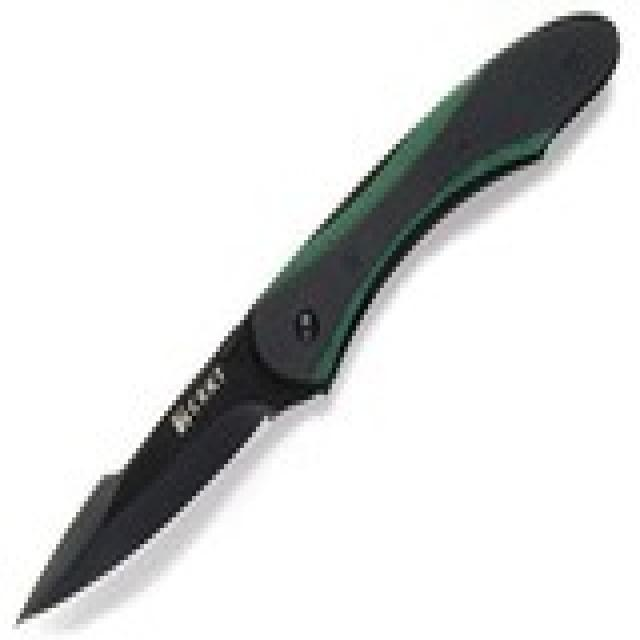Knife: (6, 12, 627, 640)
